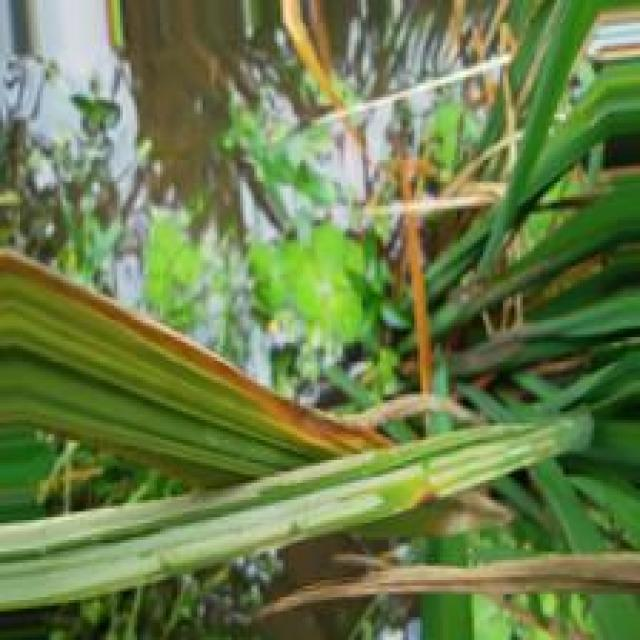Rice_Hispa: (0, 449, 522, 610), (0, 449, 385, 560)
